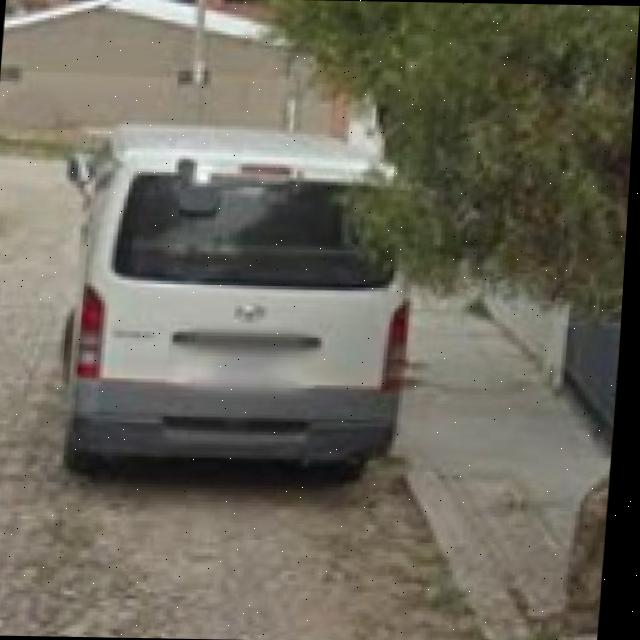vehicle: (69, 114, 417, 471)
